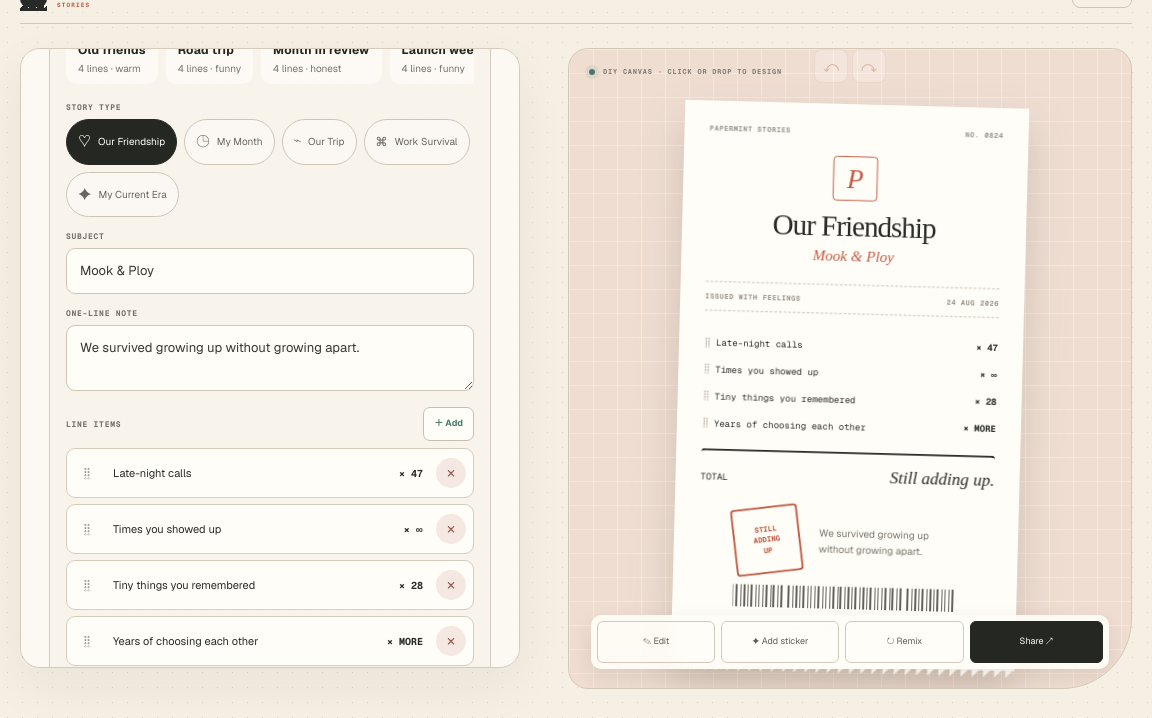
Test: receipt copy has one source › an empty note falls back to the shared string, on screen and in export
(page scrolled)
Clear the text box labelled "ONE-LINE NOTE". click: (270, 358)
box: [66,325,474,391]
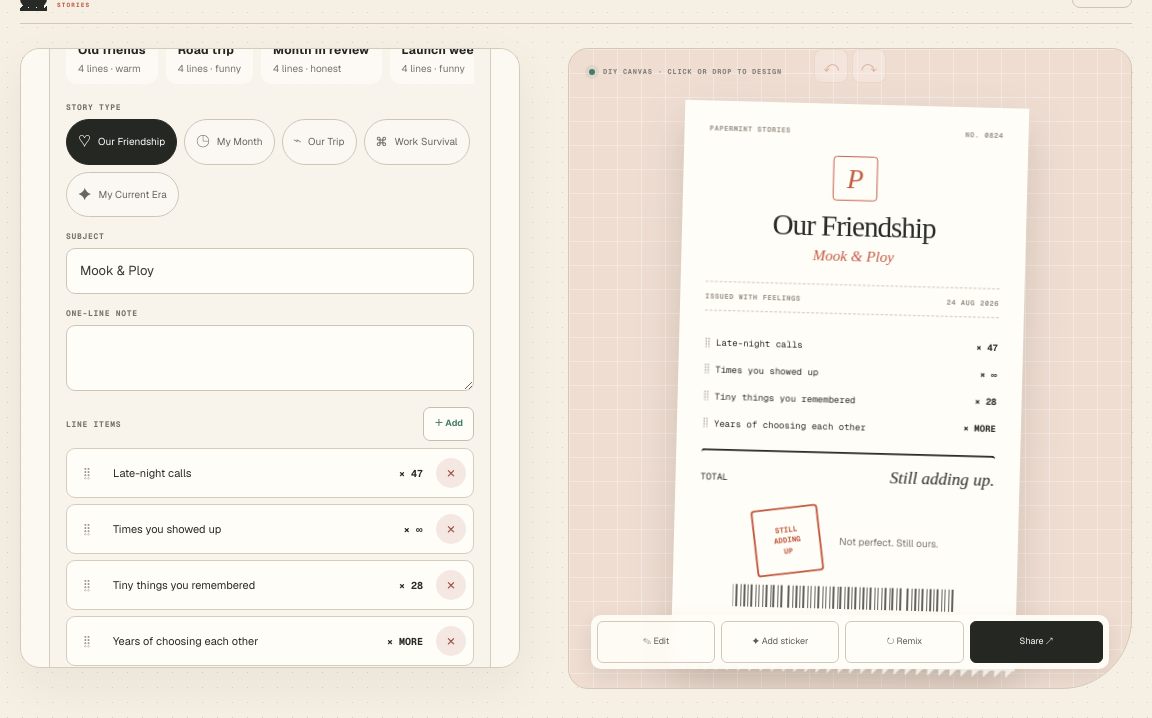
Expected: the element with id "story-receipt" shows "Not perfect. Still ours.", [839,535,938,550]
